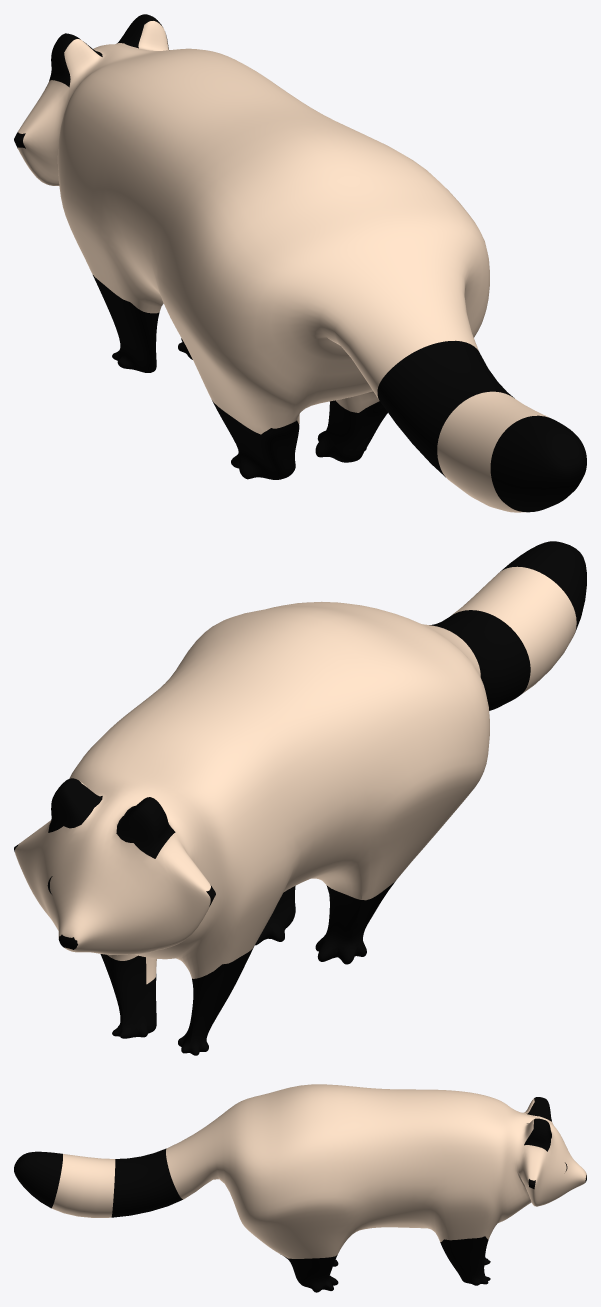
Rendered from tanuki.gltf.
3 renders of one model, top to bottom at view 1: azimuth 30°, elevation 25°; view 2: azimuth 150°, elevation 25°; view 3: azimuth 270°, elevation 25°, orthographic. The views are drawn at different scales.
Visible parts, largest first — view 1: Cylinder; view 2: Cylinder; view 3: Cylinder.
Boxes of the visible parts, x1,y1,x2,y2 form: Cylinder: (14, 14, 586, 512); Cylinder: (14, 541, 586, 1055); Cylinder: (14, 1084, 586, 1292).
Bounding box in the file's own units: 2.09 × 2.36 × 6.65.
